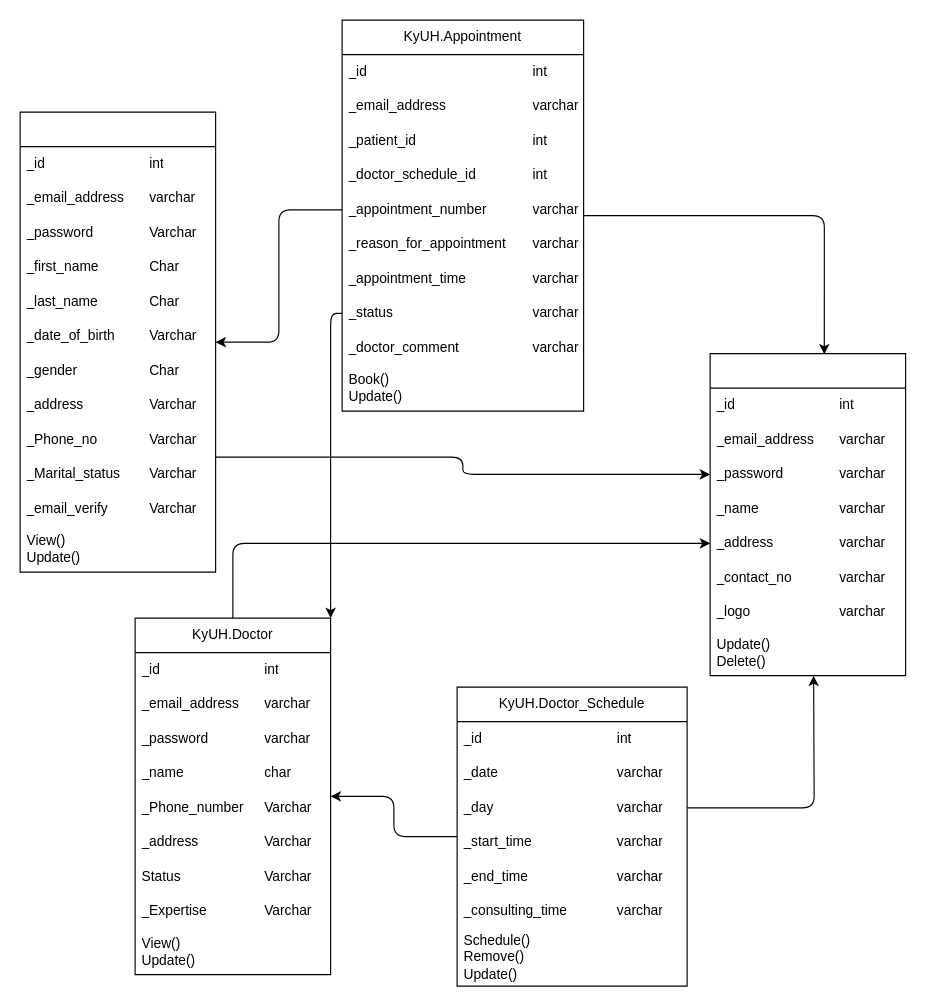
The diagram is 926 pixels wide and 1006 high, and some of its shapes have lost their labels. The box of each missing label's shape, as (x1, y1, x2, y2) in pixels:
KyUH.Admin: (709, 352, 906, 676)
KyUH.Patient: (19, 111, 216, 572)
